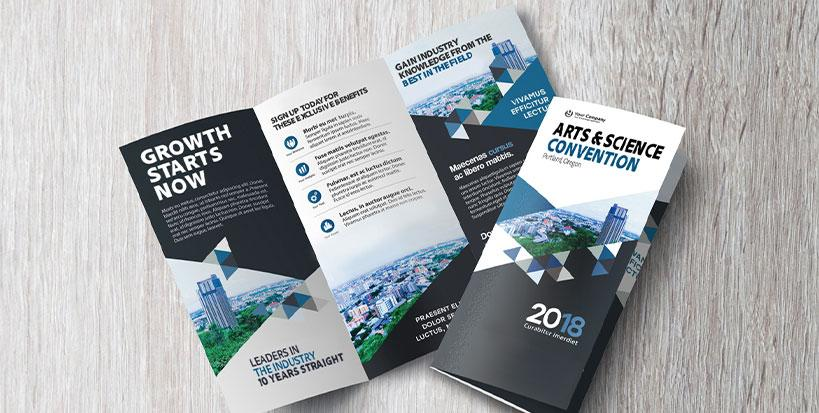paper: (120, 7, 688, 412)
